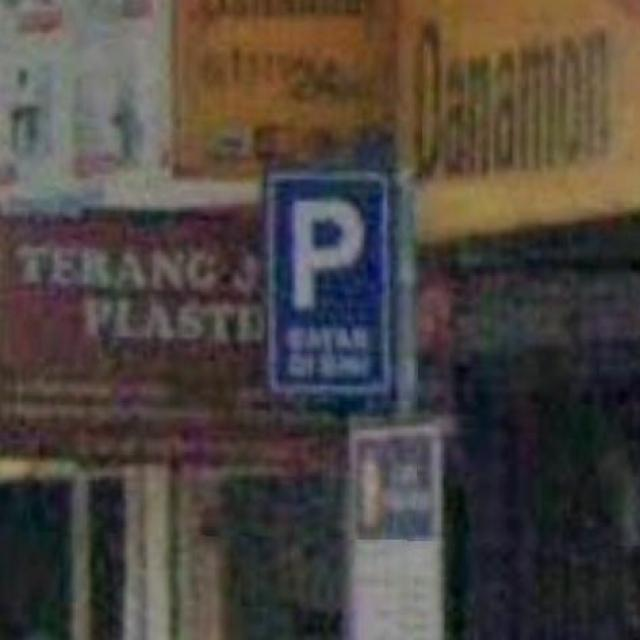traffic sign: (262, 168, 398, 402)
